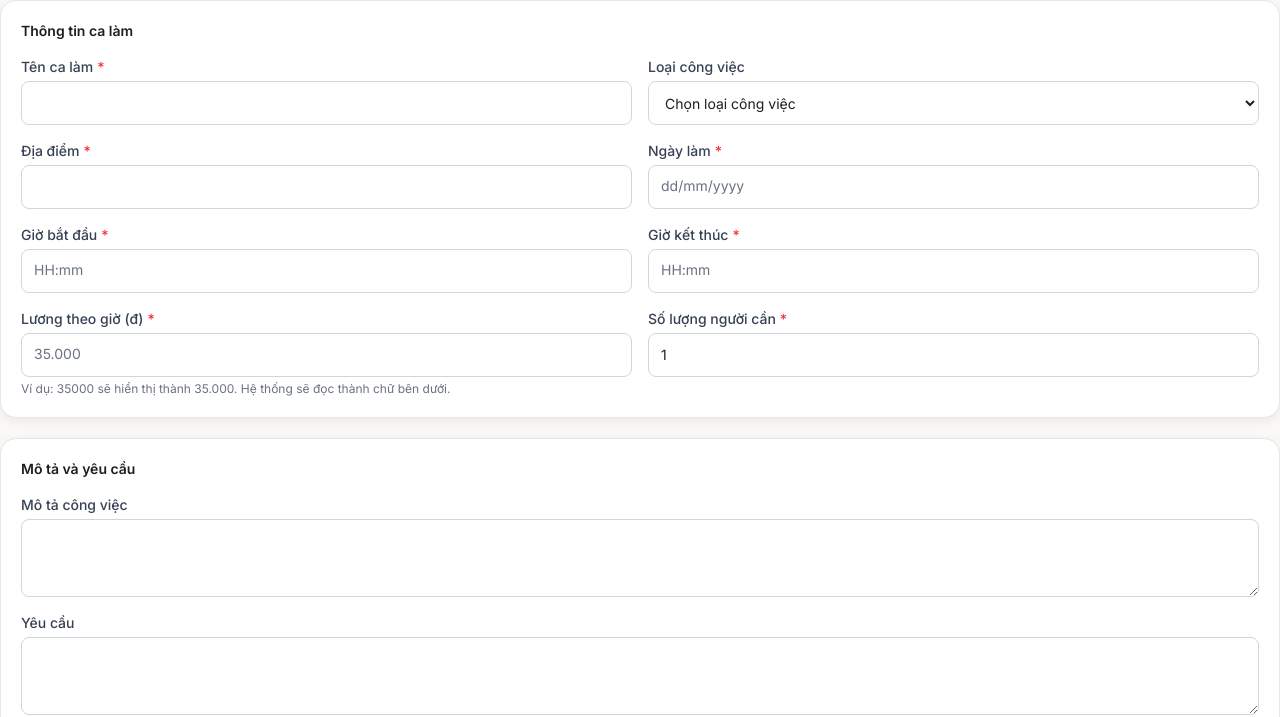
Test case: <ShiftForm/> — Phase 10C evidence picker › shows the "Hệ thống đề xuất" chip next to the suggested option
// Pick a Low-risk job type (Phát tờ rơi → ChecklistOnly).
Step 1. Select "Phát tờ rơi" in the dropdown labelled "Loại công việc" → (954, 103), box [648,81,1259,125]
(page scrolled)
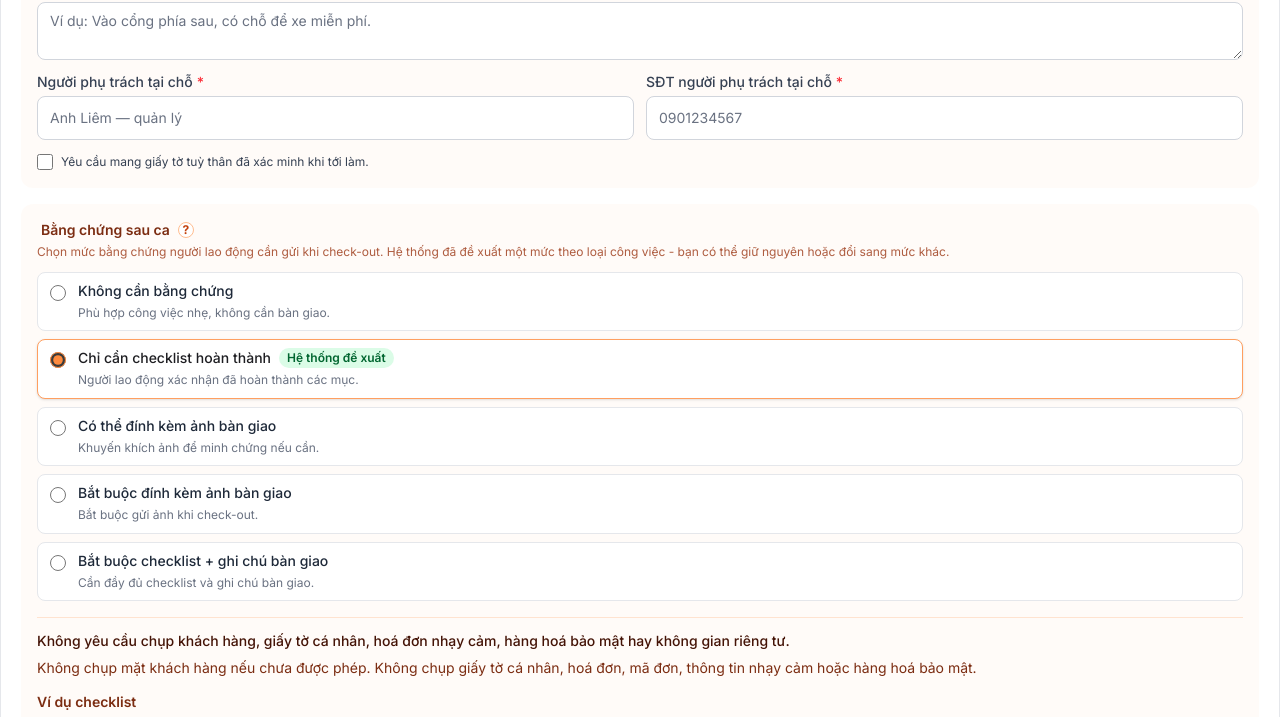
Expected: the 2nd radio button holds "ChecklistOnly", [50,352,66,368]
Result: the text "Hệ thống đề xuất" is shown at [287,350,386,365]
